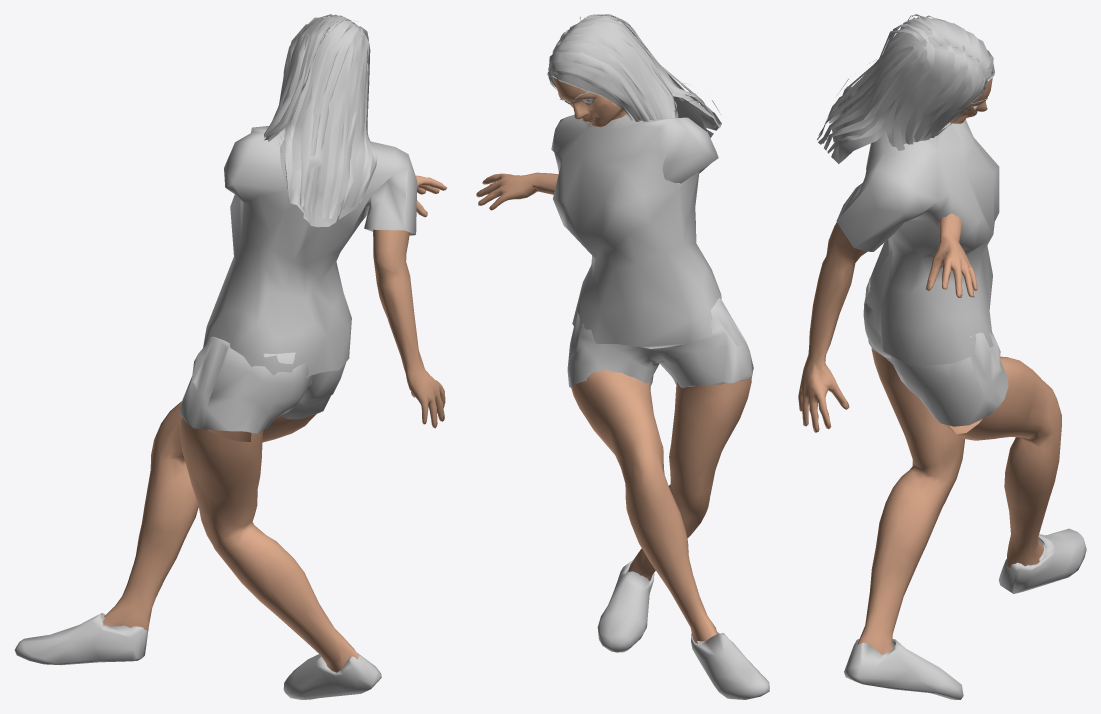
The model's file is player2att_000032.obj.
3 views of the same model, side by side, from view 1: azimuth 30°, elevation 25°; view 2: azimuth 150°, elevation 25°; view 3: azimuth 270°, elevation 25° (orthographic). The views are drawn at different scales.
Parts seen in each view (by area): view 1: player2:Body, player2:tshirt02, player2:fhair01, player2:short01, player2:shoes02; view 2: player2:tshirt02, player2:Body, player2:fhair01, player2:short01, player2:shoes02; view 3: player2:Body, player2:tshirt02, player2:fhair01, player2:shoes02, player2:short01.
Boxes of the visible parts, x1,y1,x2,y2 form: player2:Body: (103,175,446,672); player2:tshirt02: (203,126,417,378); player2:fhair01: (264,14,377,227); player2:short01: (179,336,345,433); player2:shoes02: (14,613,381,699); player2:tshirt02: (551,113,721,348); player2:Body: (476,77,751,643); player2:fhair01: (547,14,721,137); player2:short01: (567,298,753,388); player2:shoes02: (597,559,769,699); player2:Body: (798,78,1061,654); player2:tshirt02: (836,119,999,365); player2:fhair01: (816,14,994,163); player2:shoes02: (844,528,1086,699); player2:short01: (863,278,1008,426).
Size of the model in its own units: 9.2 by 15.99 by 5.99.
